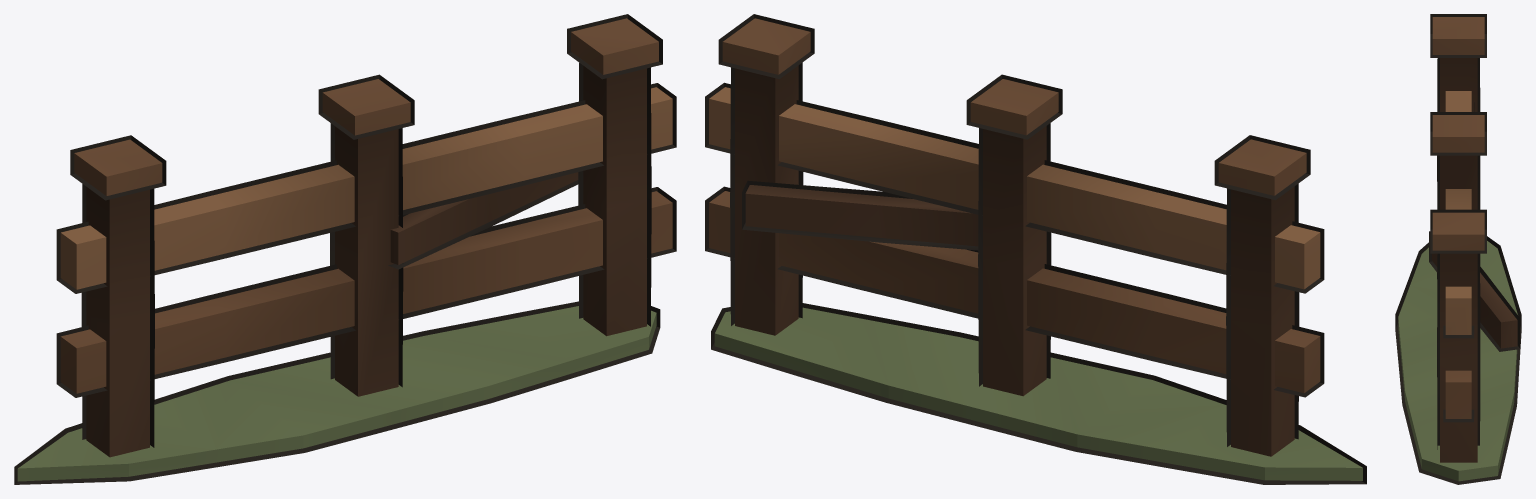
Rendered from barriere.glb.
3 views of the same model, side by side, from view 1: azimuth 30°, elevation 25°; view 2: azimuth 150°, elevation 25°; view 3: azimuth 270°, elevation 25° (orthographic). The views are drawn at different scales.
Parts seen in each view (by area): view 1: barriere, barriere_outline; view 2: barriere, barriere_outline; view 3: barriere, barriere_outline.
Boxes of the visible parts, left/top/right/bottom form: barriere: left=17, top=18, right=672, bottom=481; barriere_outline: left=14, top=14, right=676, bottom=484; barriere: left=709, top=18, right=1362, bottom=480; barriere_outline: left=705, top=14, right=1366, bottom=484; barriere: left=1398, top=17, right=1517, bottom=481; barriere_outline: left=1395, top=14, right=1521, bottom=484.
Size of the model in its own units: 2.1 by 0.938 by 0.4368.
